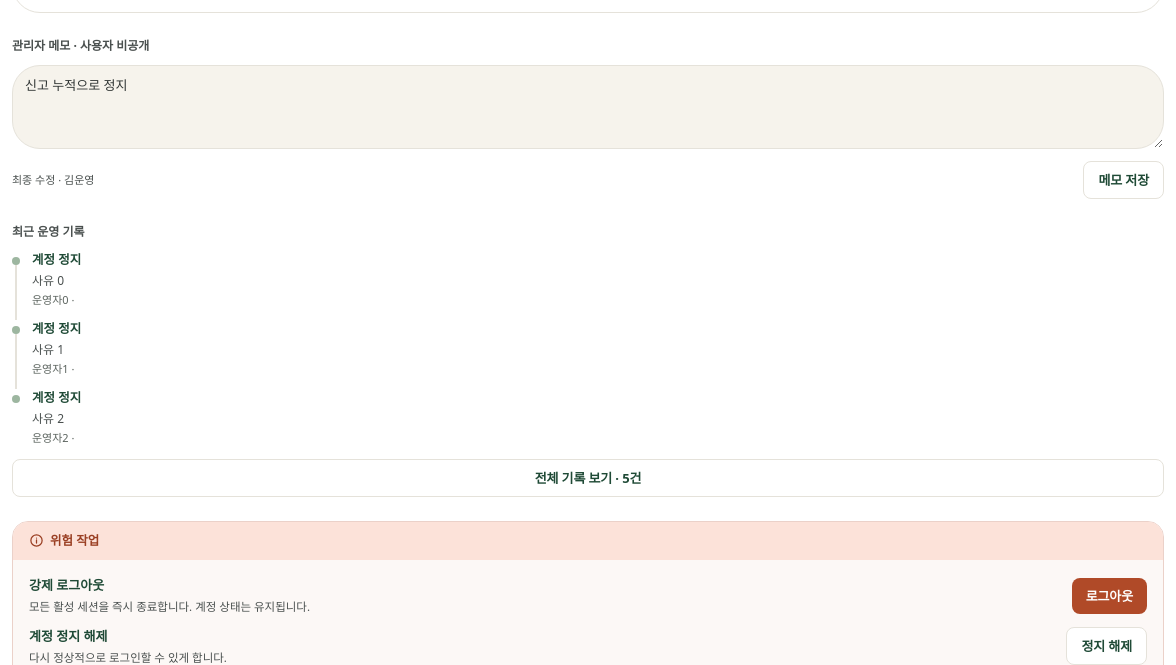
Test: 회원 상세 Sheet › 운영 기록이 3건을 넘으면 3건만 보여주고 나머지는 펼쳐서 본다
The width and height of the screenshot is (1176, 665).
(page scrolled)
Expected: the text "사유 0" is shown, [32, 272, 64, 288]
Expected: the text "사유 2" is shown, [32, 410, 64, 427]
Click the button "전체 기록 보기 · 5건": x=588, y=478 [12, 458, 1164, 496]
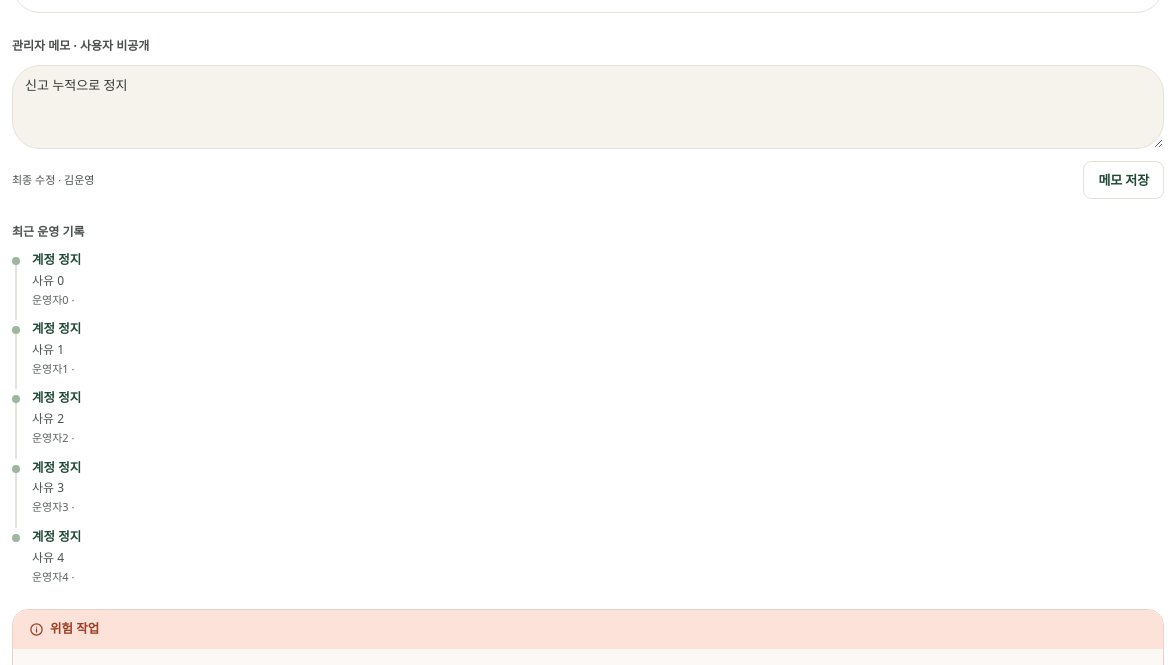
Expected: the text "사유 4" is shown, [32, 548, 64, 566]
Expected: the button "전체 기록 보기" is gone
